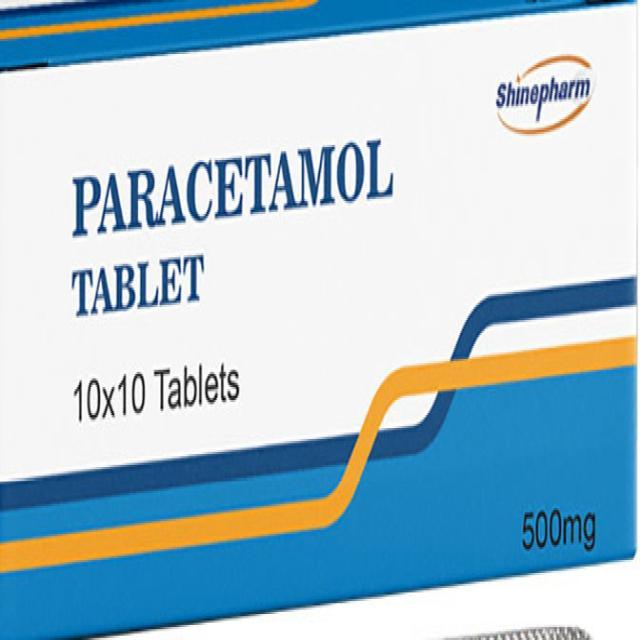drug-name: (69, 128, 396, 245)
